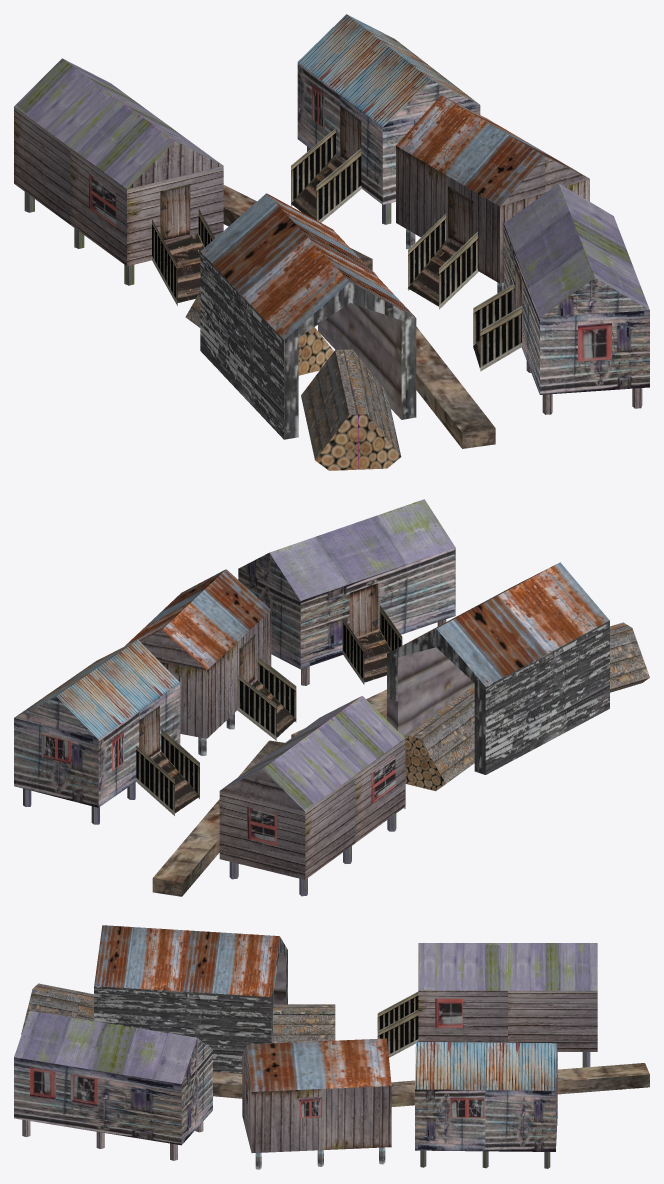
Rendered from LoggingCamp.glb.
3 views of the same model, one above another, from view 1: azimuth 30°, elevation 25°; view 2: azimuth 150°, elevation 25°; view 3: azimuth 270°, elevation 25° (orthographic). The views are drawn at different scales.
Visible parts, largest first — view 1: House1; view 2: House1; view 3: House1.
Part boxes in pixels (x1=…): House1: x1=14, y1=14, x2=649, y2=470; House1: x1=14, y1=499, x2=649, y2=896; House1: x1=14, y1=925, x2=649, y2=1169.
Bounding box in the file's own units: 10.66 × 3.85 × 18.41.
Materials: 1 (1 with a texture image).
